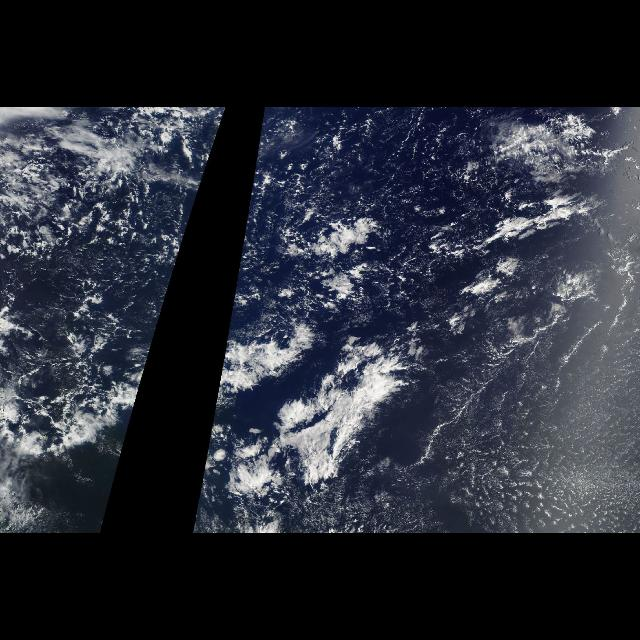Gravel: (7, 123, 222, 405), (216, 123, 272, 405)
Sugar: (420, 279, 640, 533)
